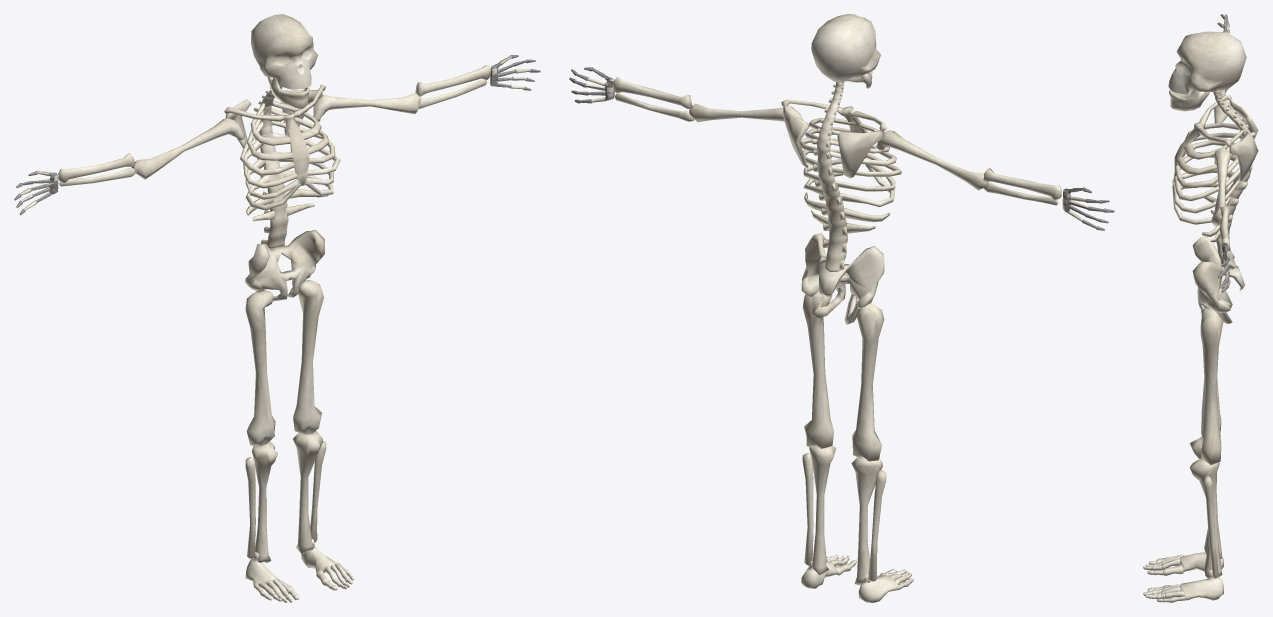
Rendered from Skeletons.FBX.
3 renders of one model, left to right at view 1: azimuth 30°, elevation 25°; view 2: azimuth 150°, elevation 25°; view 3: azimuth 270°, elevation 25°, orthographic. The views are drawn at different scales.
Visible parts, largest first — view 1: Line025, GeoSphere004, Line008, Line023, Line004, Line021, Line005, Line001, Line020, Cylinder004, Cylinder005, Line017 (+4 smaller); view 2: Line025, Line008, GeoSphere004, Line004, Line023, Line005, Line021, Line001, Line020, Cylinder004, Line022, Line009 (+3 smaller); view 3: Line025, GeoSphere004, Line023, Line008, Cylinder005, Line021, Cylinder004, Line020, Line022, Skull_jaw_low002, Line005, Line017 (+3 smaller).
Part boxes in pixels (box(x1,y1,x2,y2)): Line025: box(224, 85, 340, 248); GeoSphere004: box(251, 14, 317, 89); Line008: box(245, 230, 324, 301); Line023: box(293, 280, 323, 434); Line004: box(245, 290, 275, 446); Line021: box(293, 431, 322, 553); Line005: box(252, 441, 277, 562); Line001: box(131, 118, 244, 179); Line020: box(313, 92, 421, 121); Cylinder004: box(245, 551, 299, 602); Cylinder005: box(301, 539, 354, 590); Line017: box(415, 65, 491, 96); Line025: box(781, 81, 901, 272); Line008: box(801, 233, 884, 324); GeoSphere004: box(811, 14, 880, 81); Line004: box(852, 303, 884, 461); Line023: box(802, 294, 833, 448); Line005: box(851, 456, 882, 585); Line021: box(809, 446, 836, 575); Line001: box(876, 130, 988, 190); Line020: box(689, 103, 802, 122); Cylinder004: box(858, 569, 913, 602); Line022: box(802, 453, 813, 565); Line009: box(868, 470, 886, 581); Line025: box(1172, 91, 1258, 269); GeoSphere004: box(1168, 31, 1246, 94); Line023: box(1200, 307, 1223, 464); Line008: box(1192, 236, 1244, 324); Cylinder005: box(1143, 570, 1223, 602); Line021: box(1189, 458, 1222, 578); Cylinder004: box(1143, 552, 1223, 575); Line020: box(1211, 147, 1231, 226); Line022: box(1203, 476, 1218, 578); Skull_jaw_low002: box(1169, 89, 1209, 111); Line005: box(1190, 437, 1222, 558); Line017: box(1219, 206, 1230, 251).
Size of the model in its own units: 229 by 230 by 43.71.
